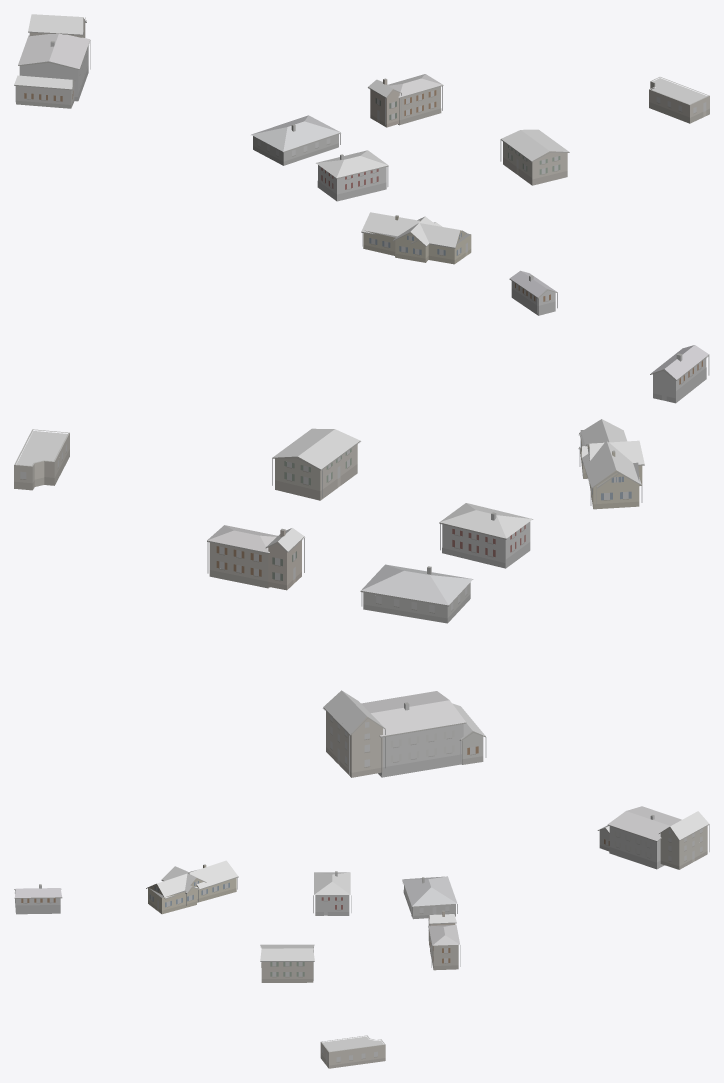
3 renders of one model, top to bottom at view 1: azimuth 30°, elevation 25°; view 2: azimuth 150°, elevation 25°; view 3: azimuth 270°, elevation 25°, orthographic. The views are drawn at different scales.
Visible parts, largest first — view 1: bld; view 2: bld; view 3: bld.
Boxes of the visible parts, x1,y1,x2,y2 form: bld: (14,14,709,315); bld: (14,345,709,777); bld: (14,806,709,1068).
Size of the model in its own units: 131 by 14.8 by 170.
